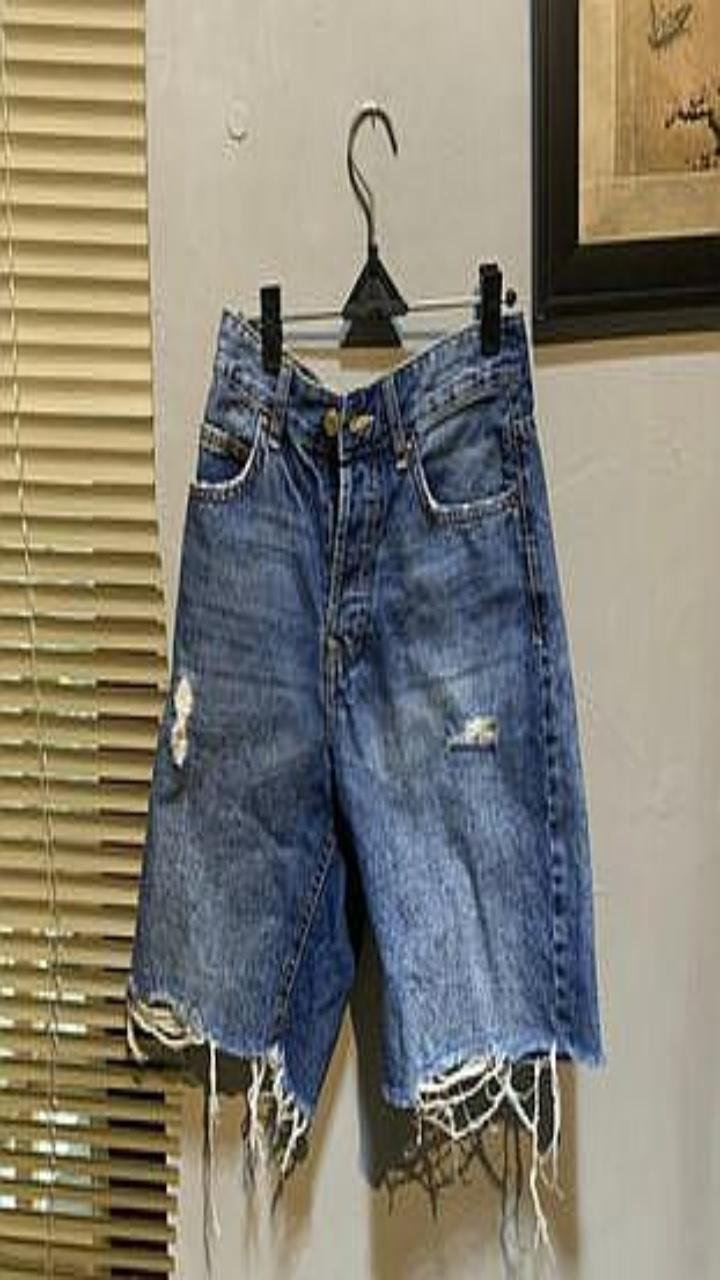Shorts: (128, 308, 603, 1171)
